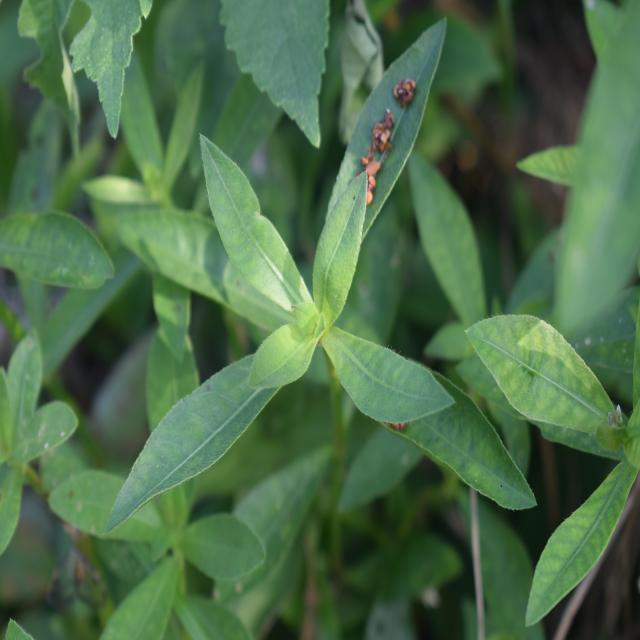Alligatorweed: (133, 68, 543, 576)
